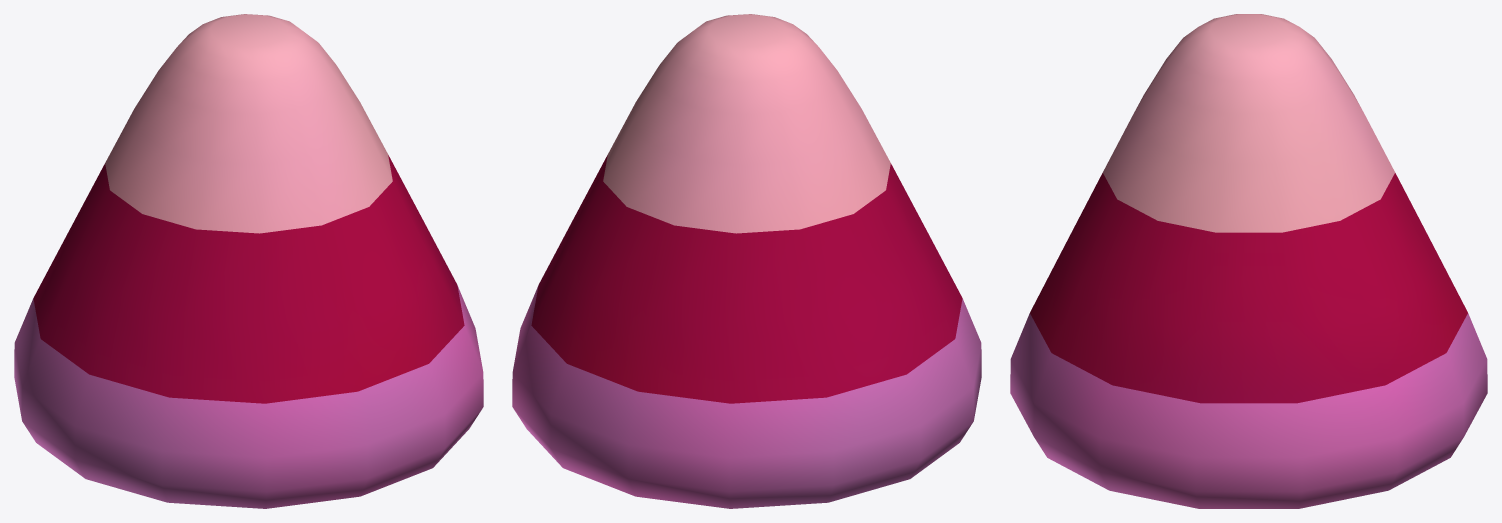
The model's file is candy_hard_24.fbx.
3 renders of one model, left to right at view 1: azimuth 30°, elevation 25°; view 2: azimuth 150°, elevation 25°; view 3: azimuth 270°, elevation 25°, orthographic.
Visible parts, largest first — view 1: c_h_24; view 2: c_h_24; view 3: c_h_24.
Part boxes in pixels (bbox=[...]): c_h_24: bbox=[14, 14, 483, 508]; c_h_24: bbox=[512, 14, 981, 508]; c_h_24: bbox=[1010, 14, 1487, 508].
Bounding box in the file's own units: 112 × 110 × 115.
